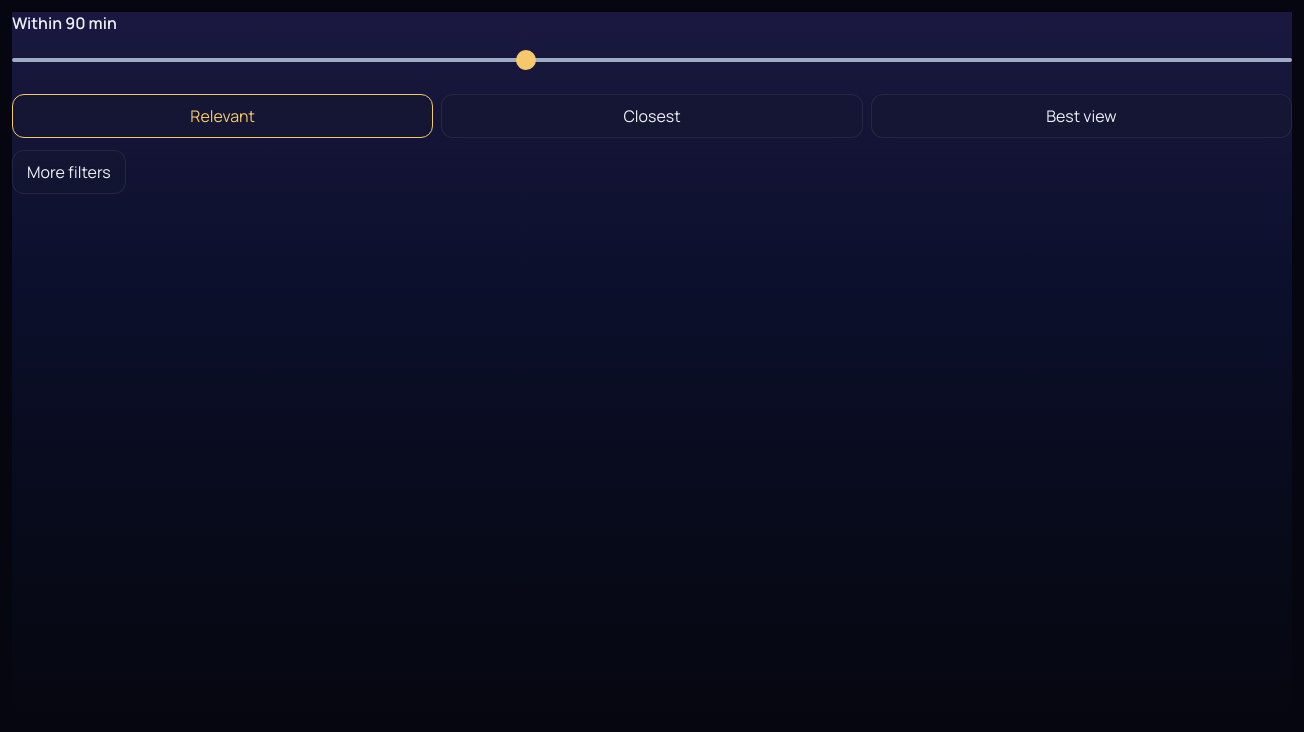
Controls › More filters holds the three switches in se_mi with the right state and patches
Click the button "More filters" at point(69, 172), box top-left (12, 150), bottom-right (126, 194)
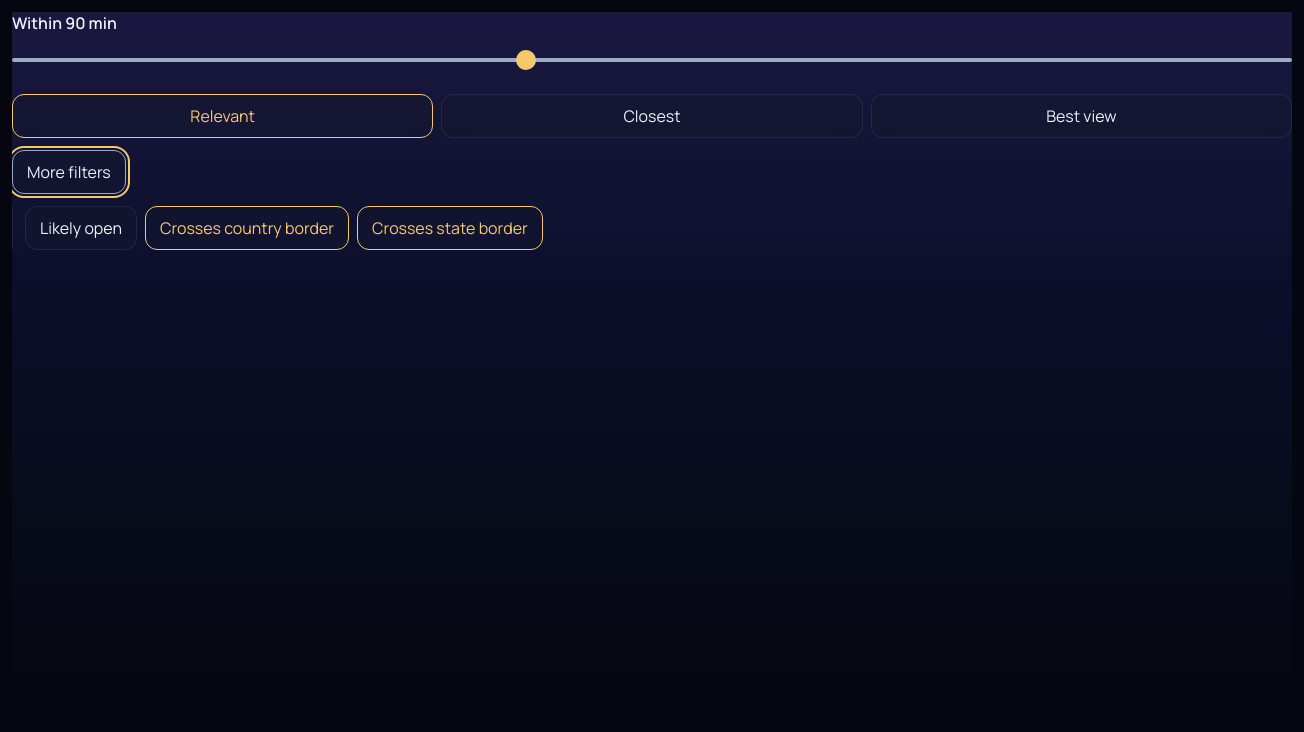
Click the switch labelled "Likely open" at point(81, 228), box top-left (25, 206), bottom-right (137, 250)
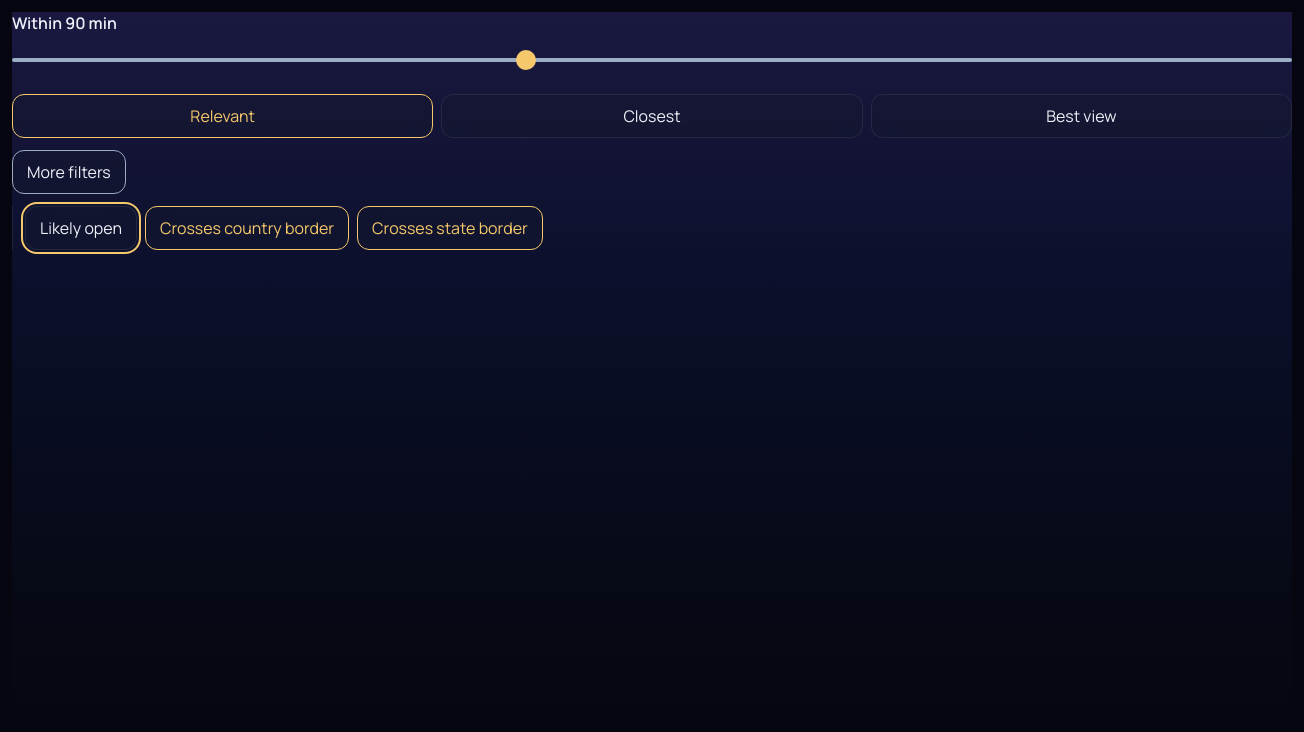
Click the switch labelled "Crosses country border" at point(247, 228), box top-left (145, 206), bottom-right (349, 250)
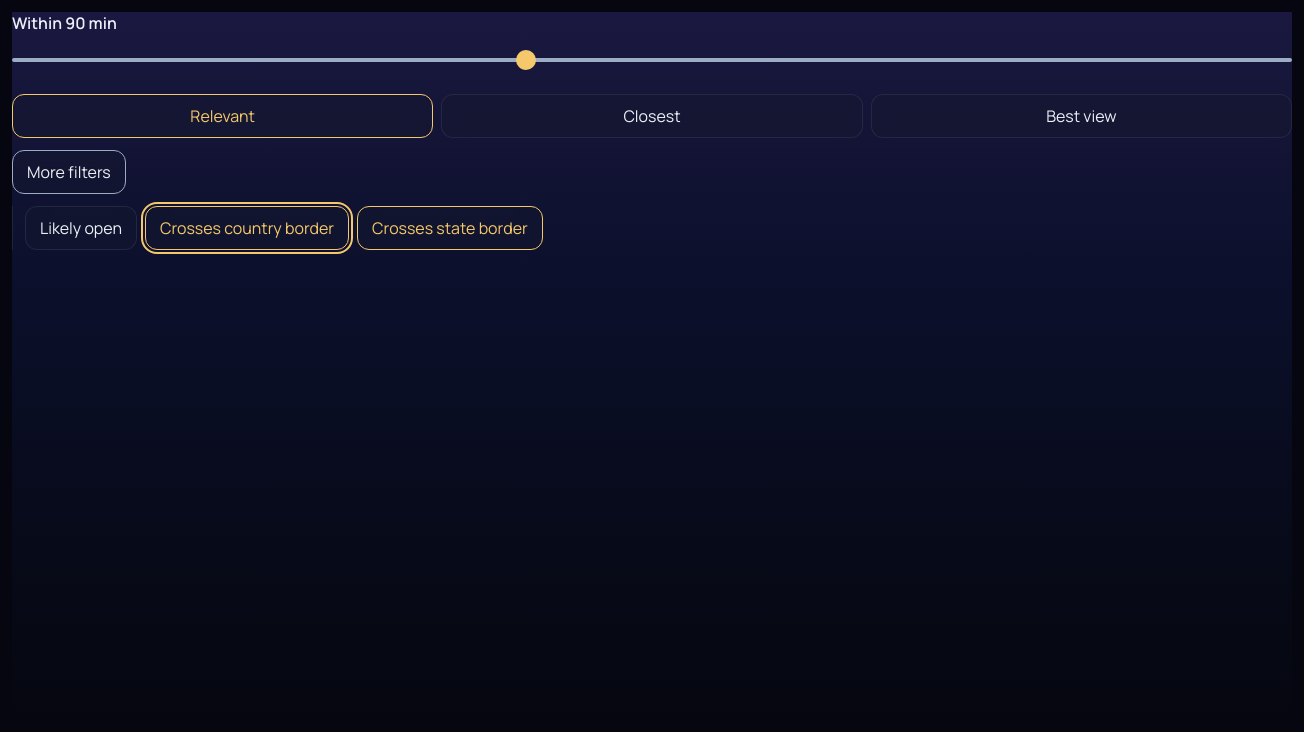
Click the switch labelled "Crosses state border" at point(450, 228), box top-left (357, 206), bottom-right (543, 250)
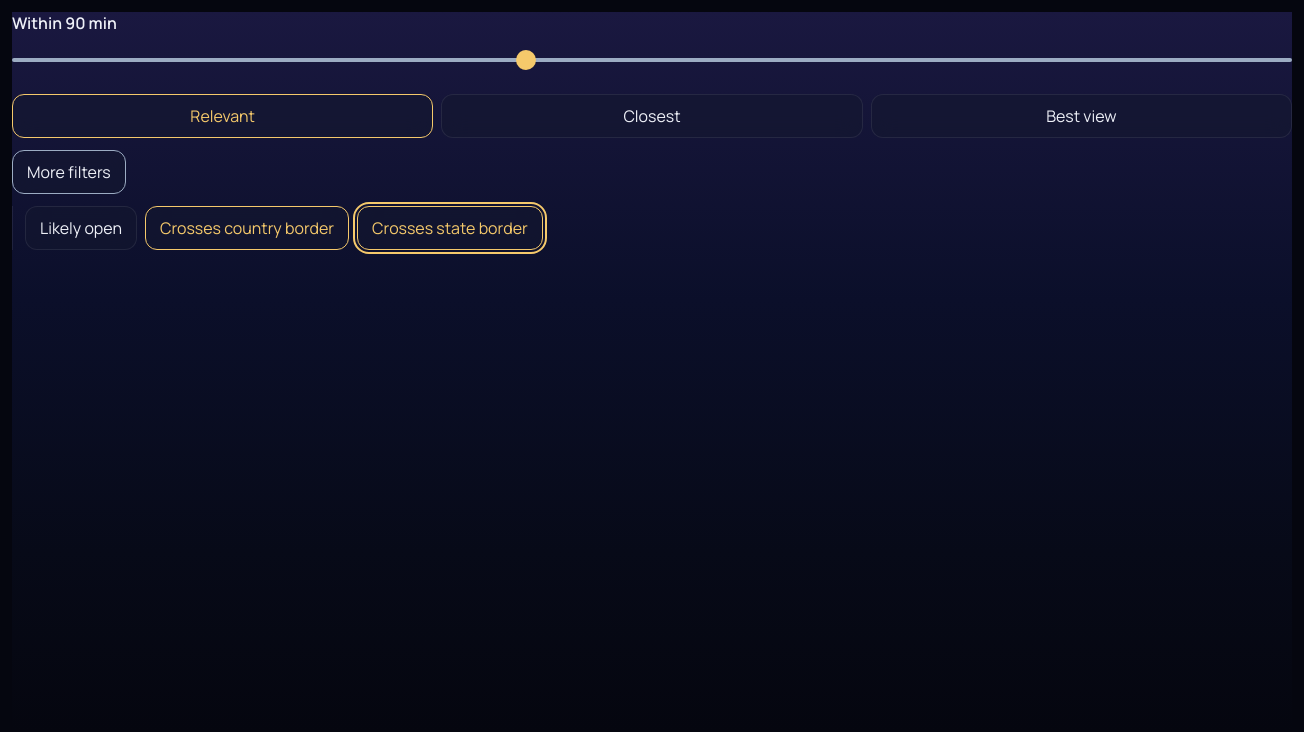
Click the button "More filters" at point(69, 172), box top-left (12, 150), bottom-right (126, 194)
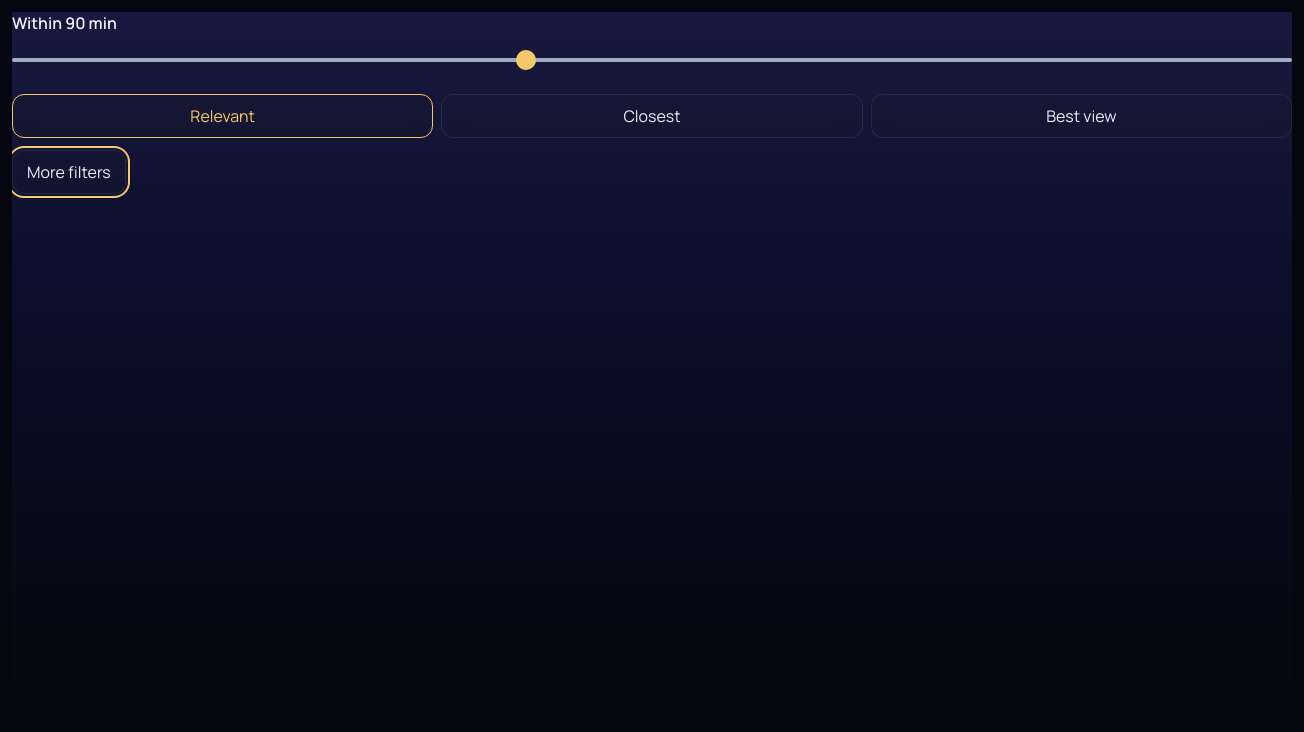
Expected: the switch is gone
